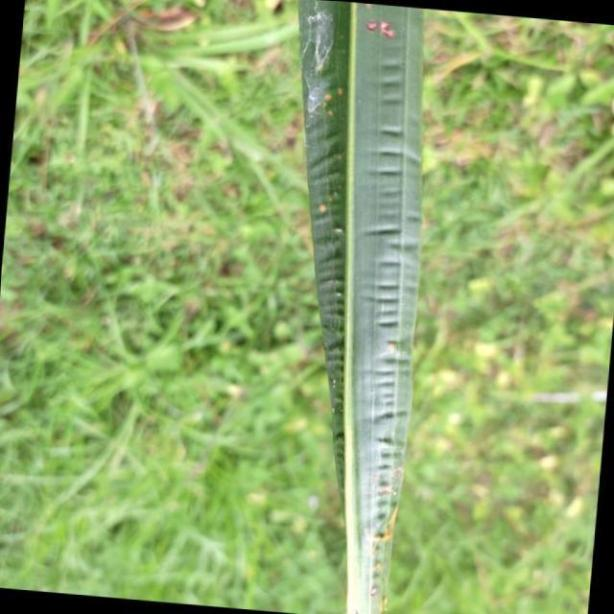Boron: (299, 0, 427, 614)
